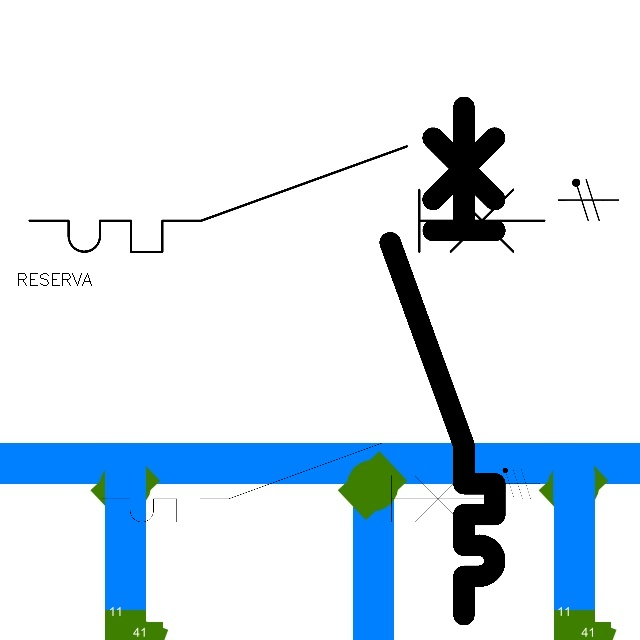interruptor_termomagnetico: (16, 133, 557, 265), (377, 94, 508, 628), (91, 433, 494, 532)
